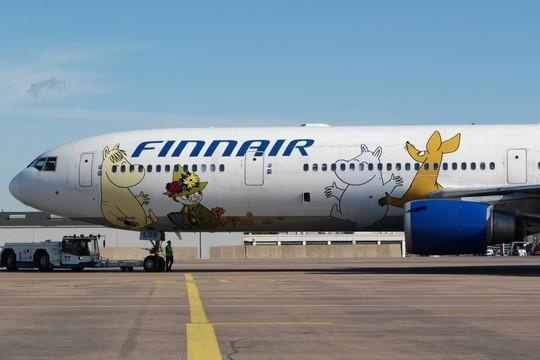airplane: (8, 116, 540, 272)
